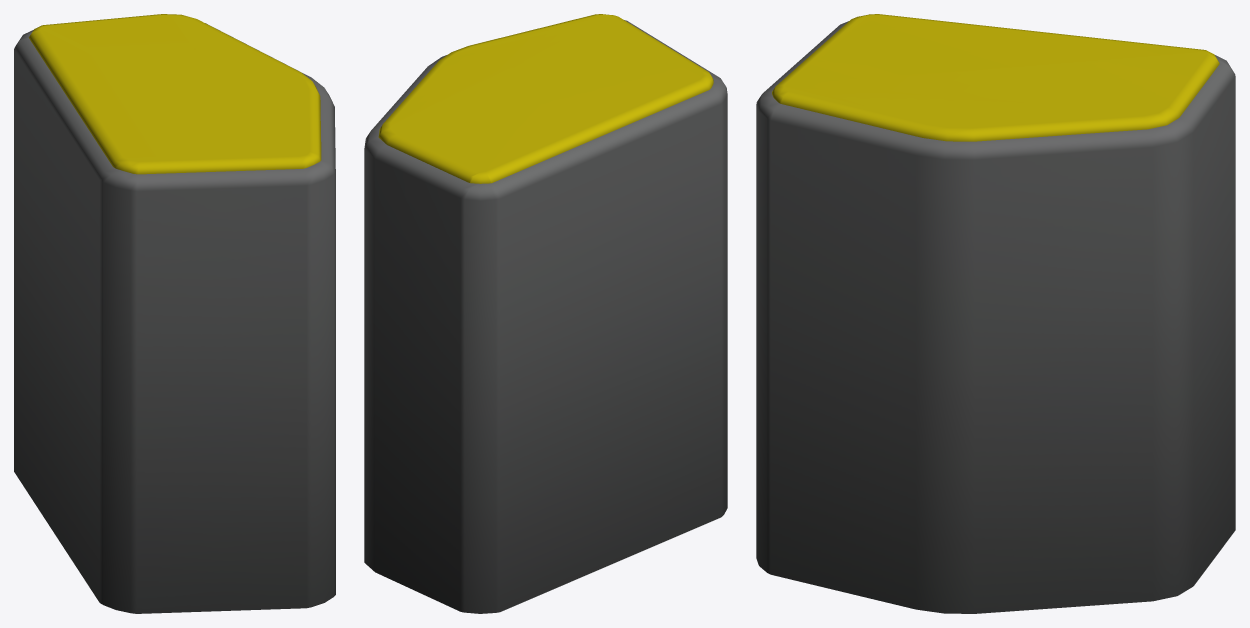
Rendered from DayRock1.fbx.
The picture shows the model from 3 angles, left to right: view 1: azimuth 30°, elevation 25°; view 2: azimuth 150°, elevation 25°; view 3: azimuth 270°, elevation 25°; orthographic projection. The views are drawn at different scales.
Visible parts, largest first — view 1: Rock1.002; view 2: Rock1.002; view 3: Rock1.002.
Boxes of the visible parts, box(x1,y1,x2,y2) form: Rock1.002: box(14, 14, 335, 613); Rock1.002: box(364, 14, 727, 613); Rock1.002: box(756, 14, 1235, 613).
Size of the model in its own units: 1249 by 2022 by 1852.
